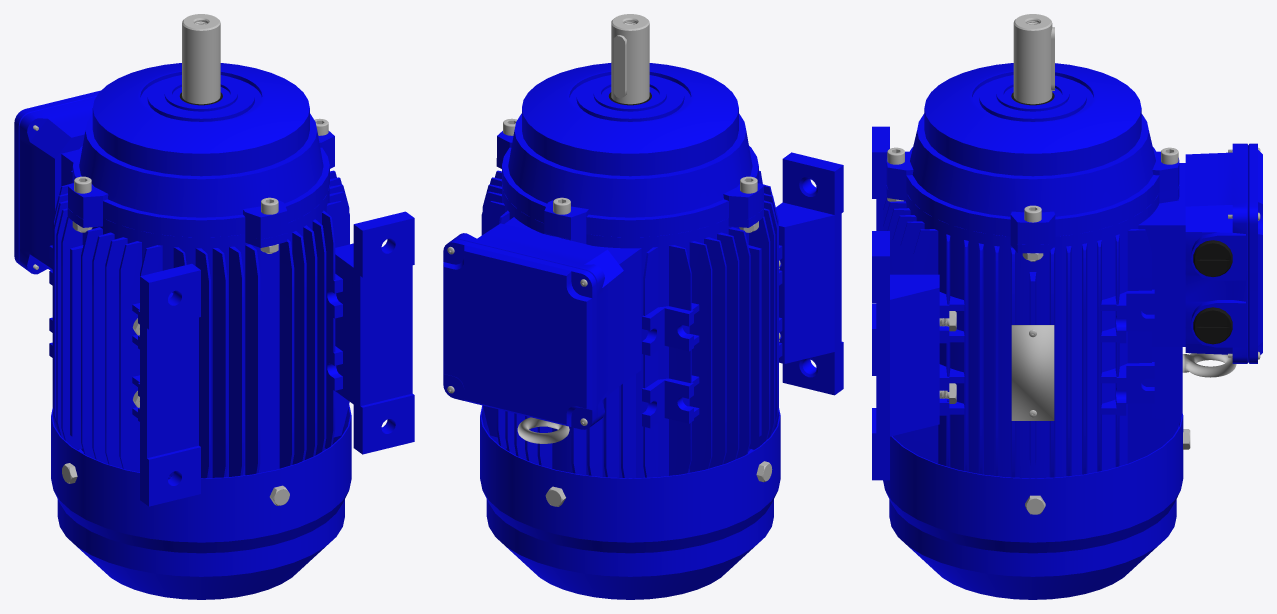
Rendered from electric_motor.fbx.
3 views of the same model, side by side, from view 1: azimuth 30°, elevation 25°; view 2: azimuth 150°, elevation 25°; view 3: azimuth 270°, elevation 25° (orthographic).
Parts seen in each view (by area): view 1: imagetostl_mesh0, imagetostl_mesh2, imagetostl_mesh1, imagetostl_mesh4, imagetostl_mesh5, imagetostl_mesh3, imagetostl_mesh7, imagetostl_mesh11; view 2: imagetostl_mesh0, imagetostl_mesh2, imagetostl_mesh1, imagetostl_mesh5, imagetostl_mesh4, imagetostl_mesh3, imagetostl_mesh13, imagetostl_mesh7, imagetostl_mesh6, imagetostl_mesh11; view 3: imagetostl_mesh0, imagetostl_mesh2, imagetostl_mesh1, imagetostl_mesh5, imagetostl_mesh4, imagetostl_mesh15, imagetostl_mesh3, imagetostl_mesh14, imagetostl_mesh7, imagetostl_mesh13.
Part boxes in pixels (bbox=[...]): imagetostl_mesh0: bbox=[49, 149, 349, 478]; imagetostl_mesh2: bbox=[68, 63, 334, 239]; imagetostl_mesh1: bbox=[51, 404, 351, 599]; imagetostl_mesh4: bbox=[140, 211, 414, 506]; imagetostl_mesh5: bbox=[14, 90, 100, 274]; imagetostl_mesh3: bbox=[182, 14, 220, 104]; imagetostl_mesh7: bbox=[72, 118, 328, 253]; imagetostl_mesh11: bbox=[62, 463, 289, 505]; imagetostl_mesh0: bbox=[481, 158, 782, 478]; imagetostl_mesh2: bbox=[497, 63, 763, 239]; imagetostl_mesh1: bbox=[480, 405, 780, 599]; imagetostl_mesh5: bbox=[443, 223, 623, 429]; imagetostl_mesh4: bbox=[776, 152, 843, 395]; imagetostl_mesh3: bbox=[611, 14, 649, 104]; imagetostl_mesh13: bbox=[517, 417, 569, 443]; imagetostl_mesh7: bbox=[503, 118, 758, 232]; imagetostl_mesh6: bbox=[613, 35, 626, 98]; imagetostl_mesh11: bbox=[545, 461, 772, 506]; imagetostl_mesh0: bbox=[883, 163, 1185, 478]; imagetostl_mesh2: bbox=[886, 63, 1179, 244]; imagetostl_mesh1: bbox=[883, 413, 1183, 599]; imagetostl_mesh5: bbox=[1185, 143, 1262, 363]; imagetostl_mesh4: bbox=[872, 126, 939, 480]; imagetostl_mesh15: bbox=[1011, 325, 1054, 420]; imagetostl_mesh3: bbox=[1013, 14, 1052, 104]; imagetostl_mesh14: bbox=[1193, 240, 1232, 344]; imagetostl_mesh7: bbox=[887, 147, 1178, 261]; imagetostl_mesh13: bbox=[1182, 353, 1236, 377].
Size of the model in its own units: 22.93 by 42.97 by 28.48.
